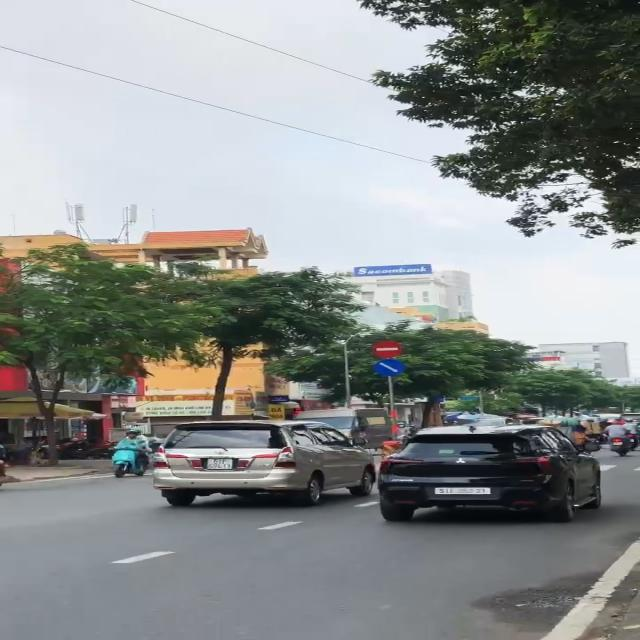Bien bao cam di nguoc chieu: (368, 339, 402, 358)
Bien bao huong phai di vong chuong ngai vat: (371, 358, 408, 379)
